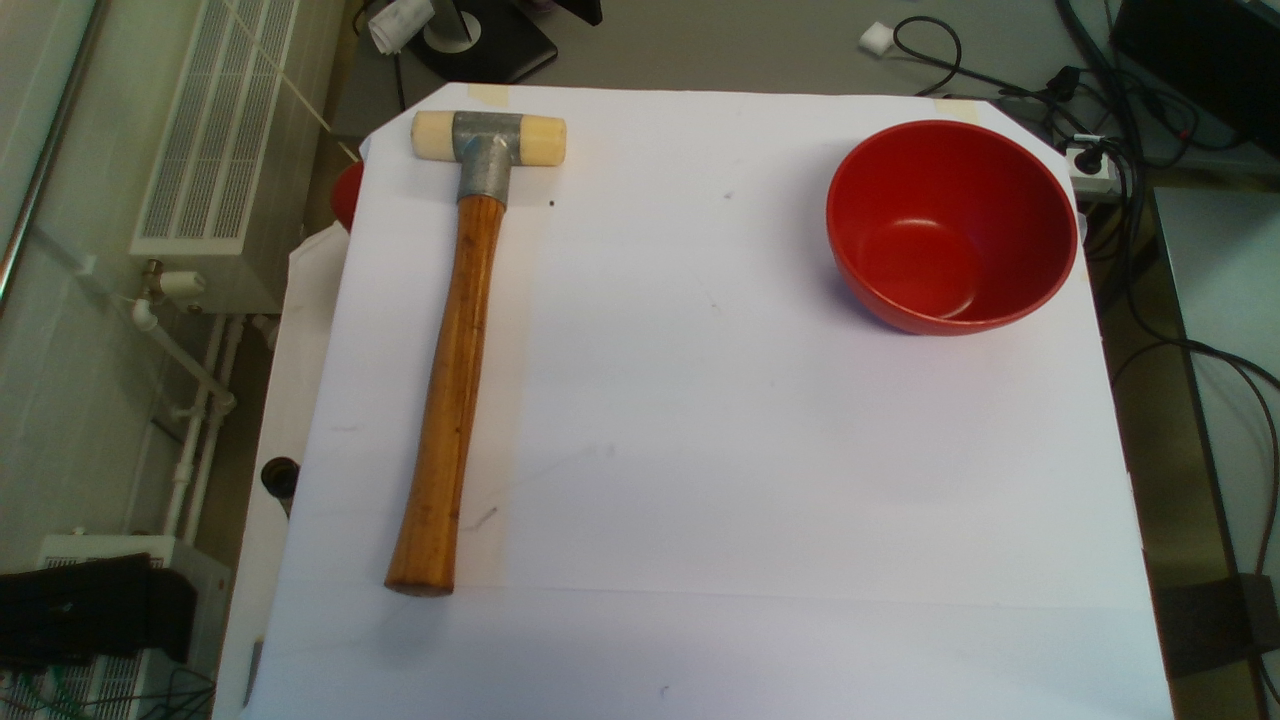bowl: (824, 121, 1079, 341)
hammer: (384, 105, 566, 603)
